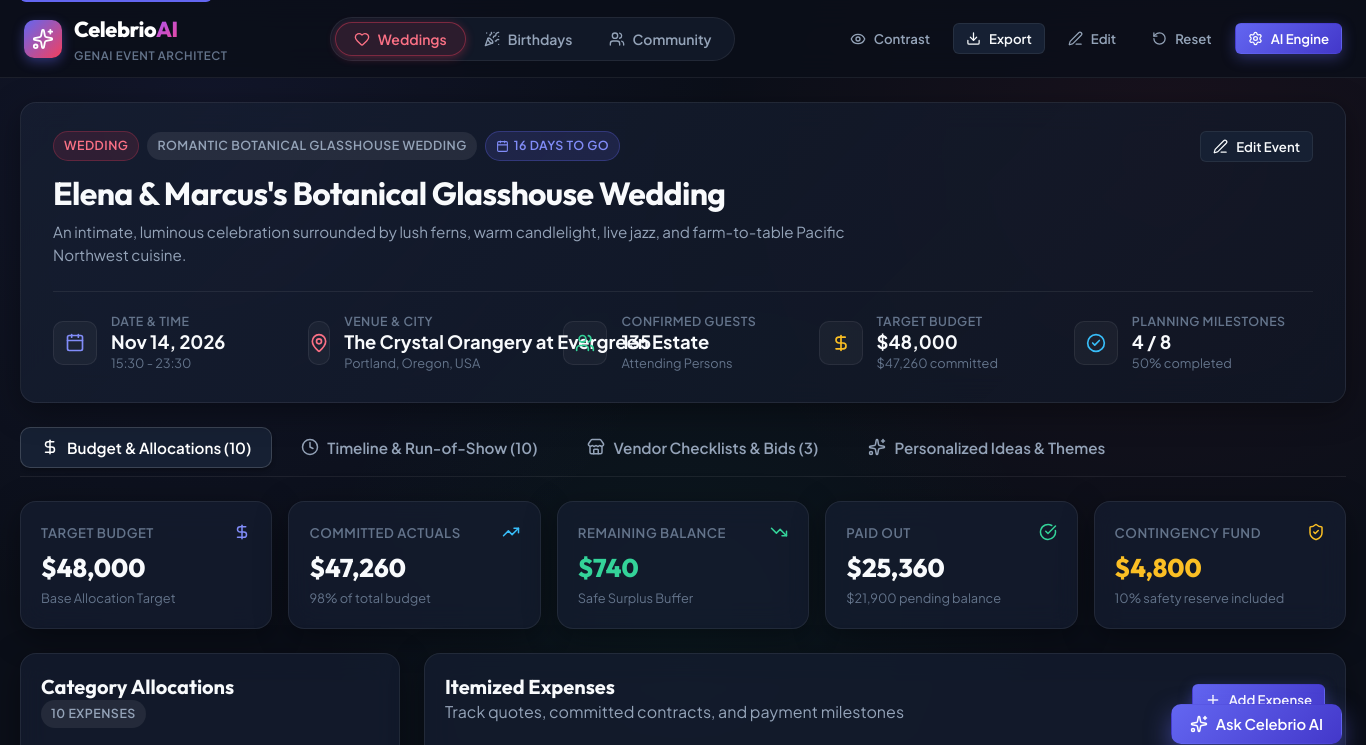
Test case: UI Components & Interaction Suite › switches to Community festival persona when Community button is clicked
This screenshot has width=1366, height=745.
What coordinates should you click on to do the following:
click the button "Community"
I would click on:
 (660, 38)
Its box is [590,22,730,56].
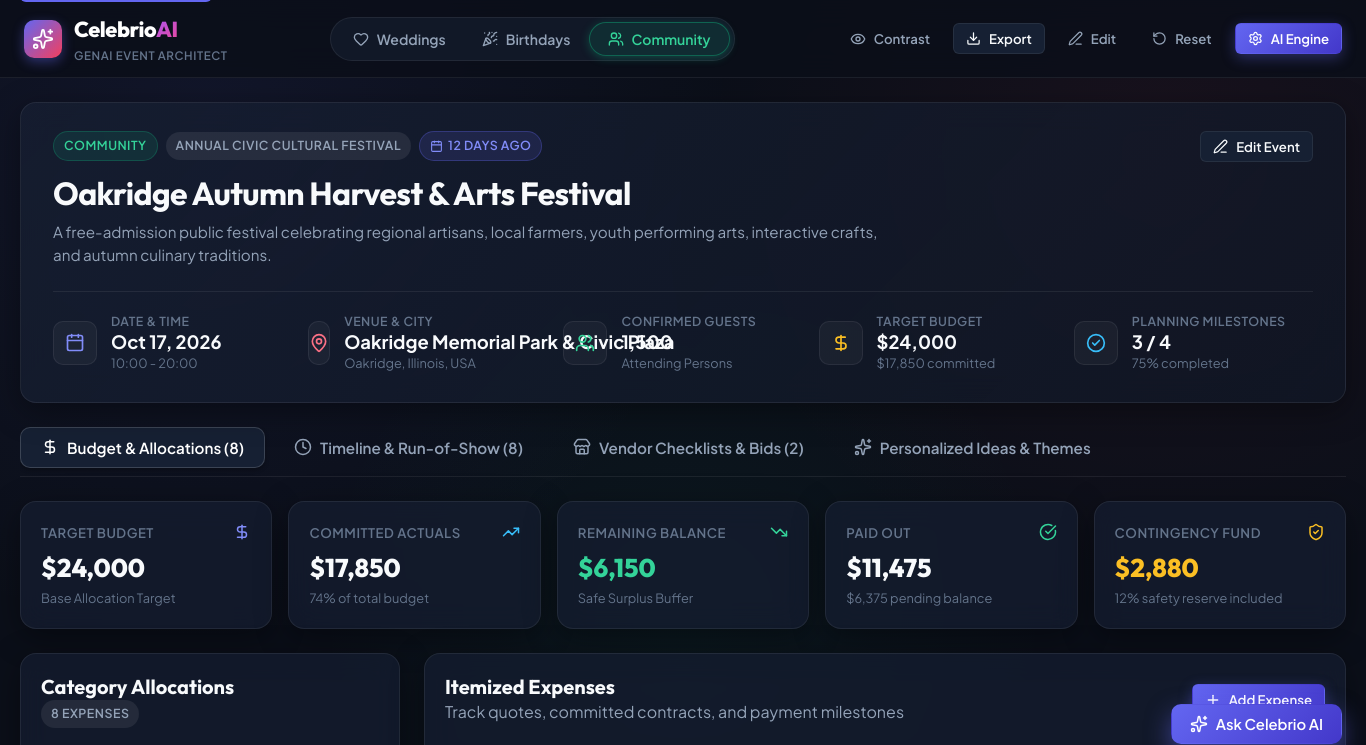
Expected: the heading "Oakridge Autumn Harvest & Arts Festival" is shown, [53,173,631,213]
